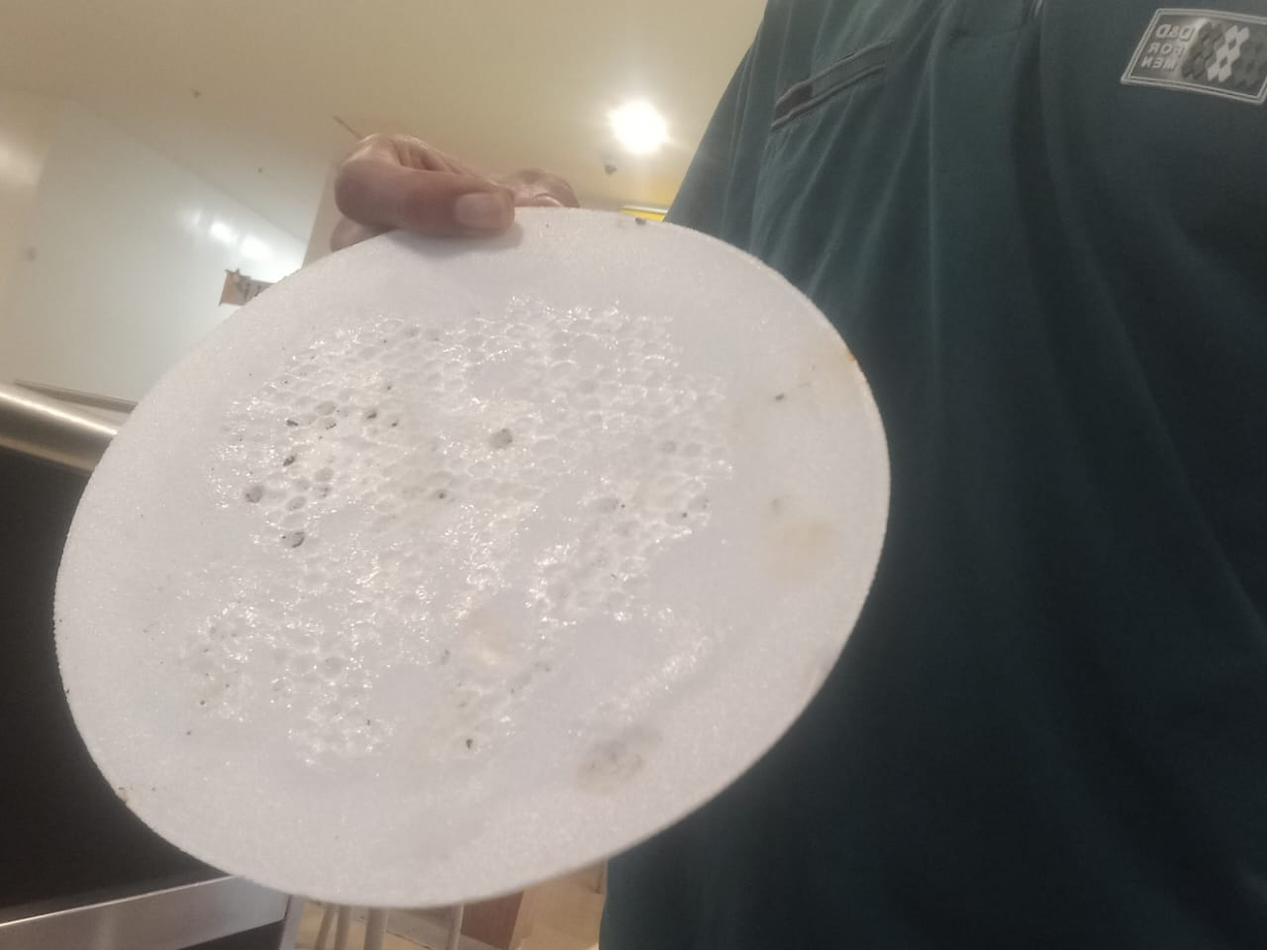Ordinario: (50, 205, 892, 910)
